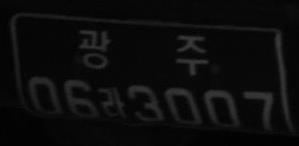0: (203, 88, 241, 130), (165, 86, 201, 125), (28, 75, 61, 117)
3: (127, 84, 164, 124)
6: (63, 79, 99, 119)
7: (243, 89, 274, 132)
광주_D: (79, 27, 209, 76)
라: (99, 85, 125, 119)
